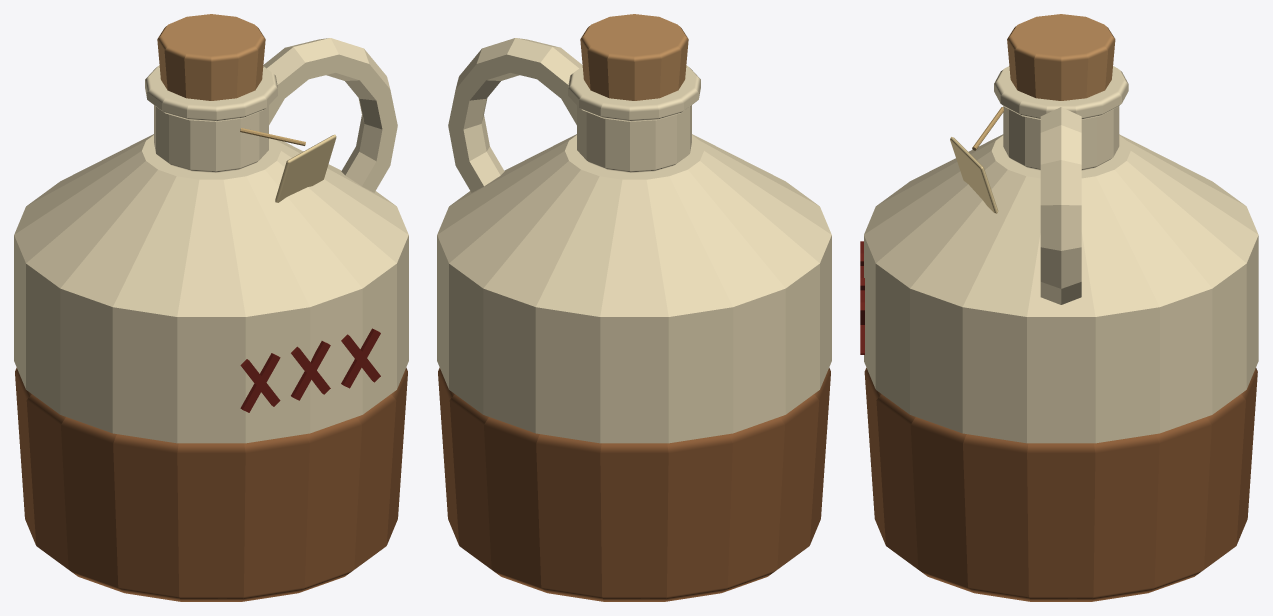
File: LootJug.glb
3 views of the same model, side by side, from view 1: azimuth 30°, elevation 25°; view 2: azimuth 150°, elevation 25°; view 3: azimuth 270°, elevation 25° (orthographic).
Parts seen in each view (by area): view 1: LootJug.001; view 2: LootJug.001; view 3: LootJug.001.
Part boxes in pixels (bbox=[...]): LootJug.001: bbox=[14, 14, 408, 601]; LootJug.001: bbox=[437, 14, 831, 601]; LootJug.001: bbox=[860, 14, 1258, 601].
Size of the model in its own units: 0.3502 by 0.47 by 0.343.
